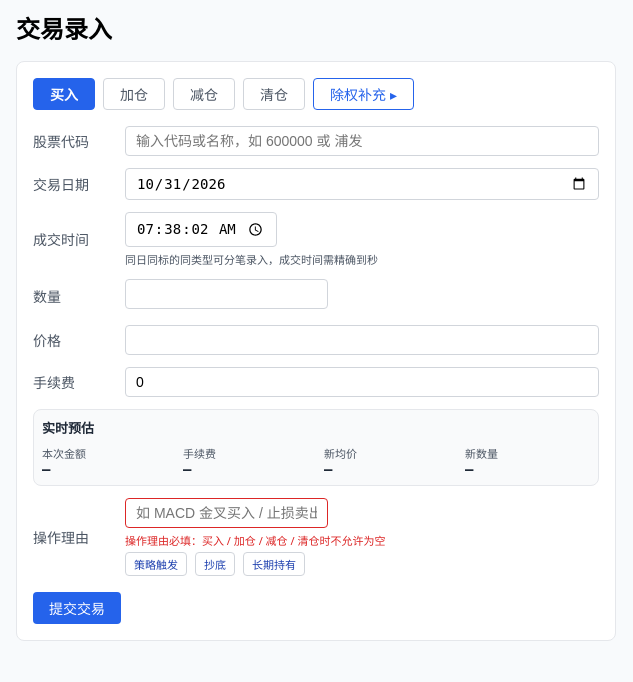
Test: T68 ④ · 实时预估面板（新均价与 core golden 一致） › 面板存在，随数量 / 价格 / 手续费实时变化
Type "sh600000" into the field labelled "股票代码". click: (362, 141)
box: x1=125 y1=126 x2=599 y2=156
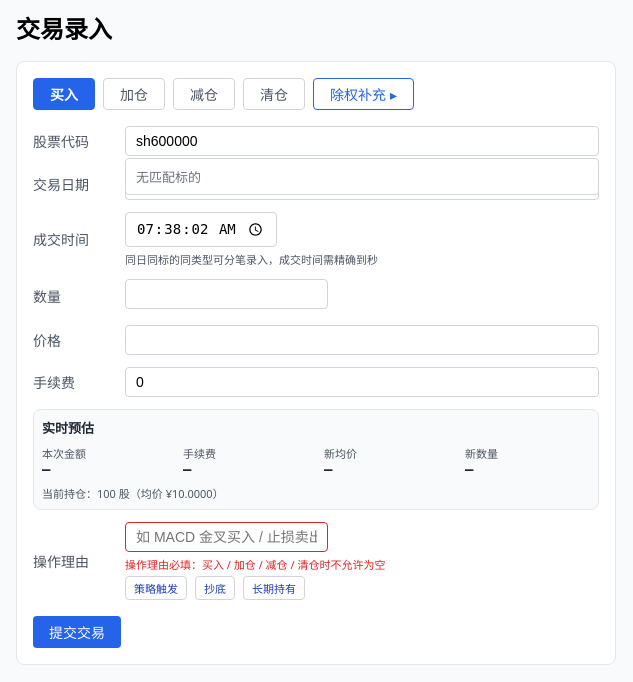
Expected: the element with test id "trade-estimate-panel" is shown, x1=33 y1=409 x2=599 y2=510
Result: the text "当前持仓：100 股（均价 ¥10.0000）" is shown at x1=42 y1=486 x2=224 y2=501
